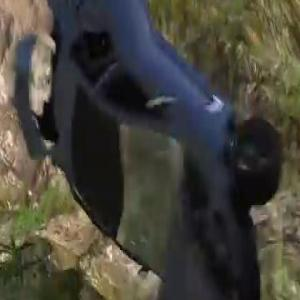fatal: (11, 0, 282, 300)
